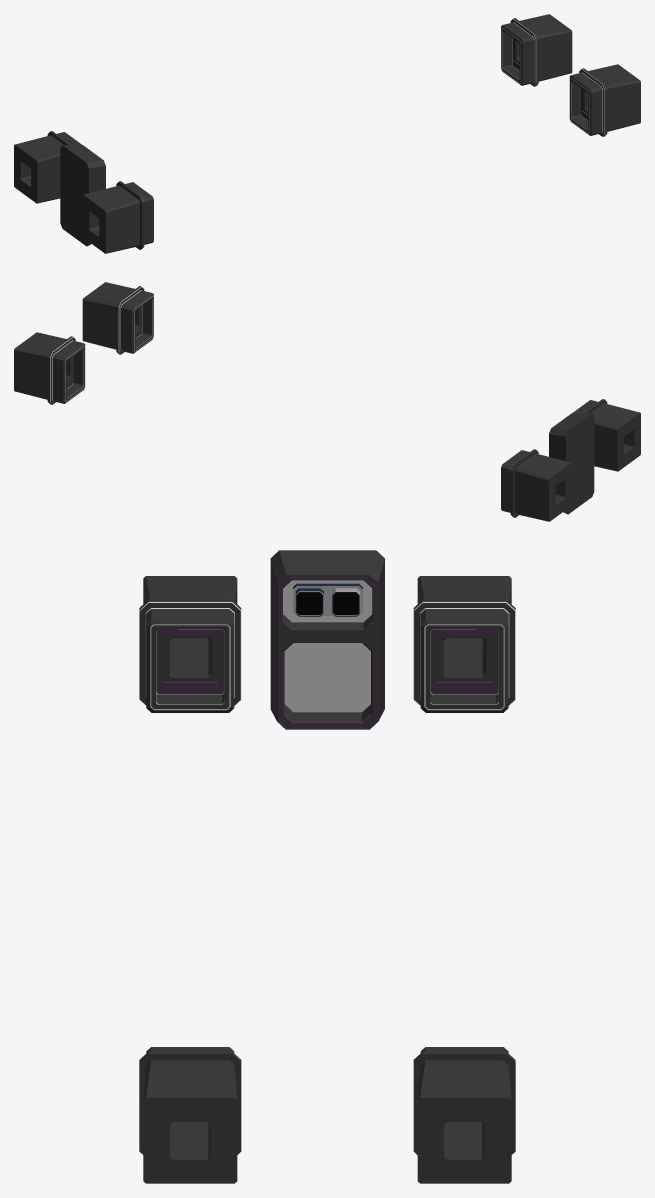
The model's file is AlphaPanel.fbx.
3 views of the same model, one above another, from view 1: azimuth 30°, elevation 25°; view 2: azimuth 150°, elevation 25°; view 3: azimuth 270°, elevation 25° (orthographic). The views are drawn at different scales.
Parts seen in each view (by area): view 1: Panel; view 2: Panel; view 3: Panel.
Boxes of the visible parts, <box> form: Panel: <box>14,14,640,253</box>; Panel: <box>14,282,640,521</box>; Panel: <box>139,550,515,1183</box>.
Bounding box in the file's own units: 4511 × 674 × 1374.
